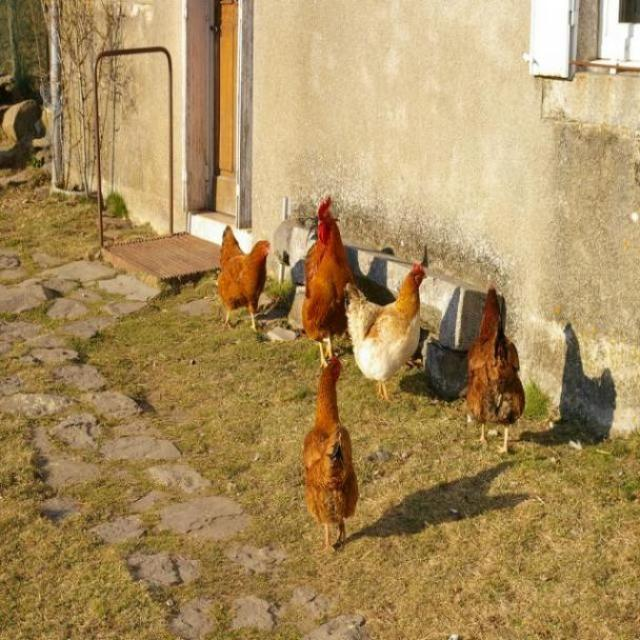Chicken: (344, 261, 428, 405), (301, 357, 360, 552), (466, 285, 525, 453), (301, 198, 353, 371), (216, 221, 275, 340)
